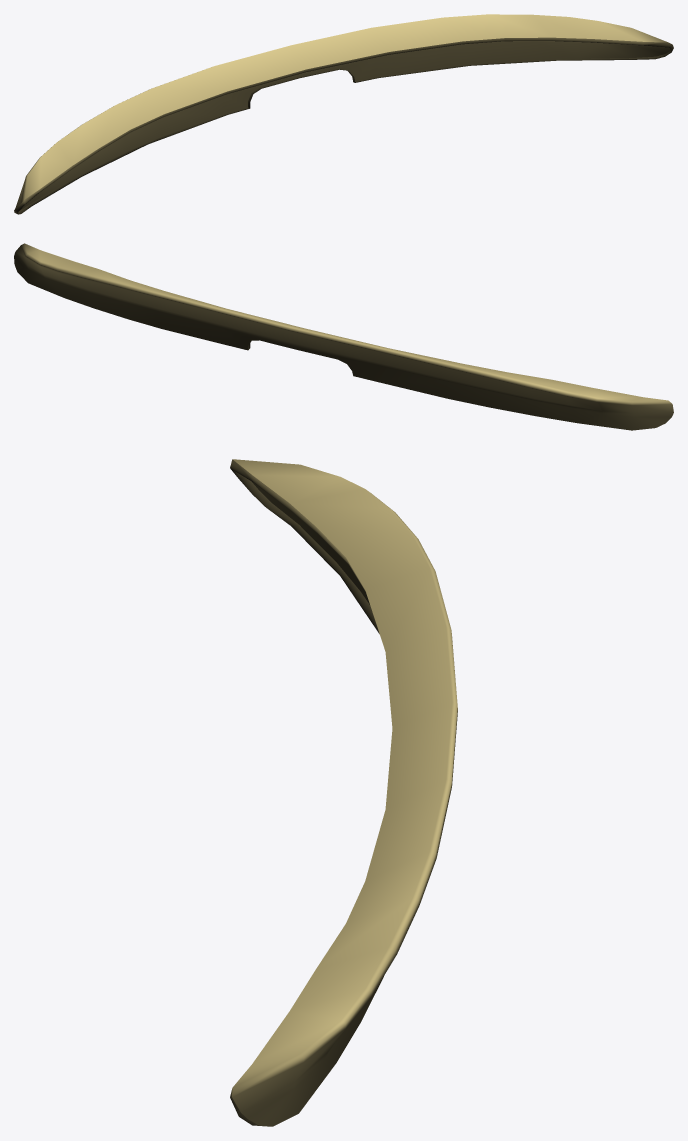
Rendered from MX5_Spoiler01_Duco.fbx.
3 views of the same model, one above another, from view 1: azimuth 30°, elevation 25°; view 2: azimuth 150°, elevation 25°; view 3: azimuth 270°, elevation 25° (orthographic). The views are drawn at different scales.
Visible parts, largest first — view 1: MX5_Spoiler01_Duco; view 2: MX5_Spoiler01_Duco; view 3: MX5_Spoiler01_Duco.
Part boxes in pixels (box(x1,y1,x2,y2)): MX5_Spoiler01_Duco: box(14, 14, 673, 214); MX5_Spoiler01_Duco: box(14, 243, 673, 430); MX5_Spoiler01_Duco: box(230, 459, 457, 1126).
Bounding box in the file's own units: 114 × 9.67 × 17.06.
